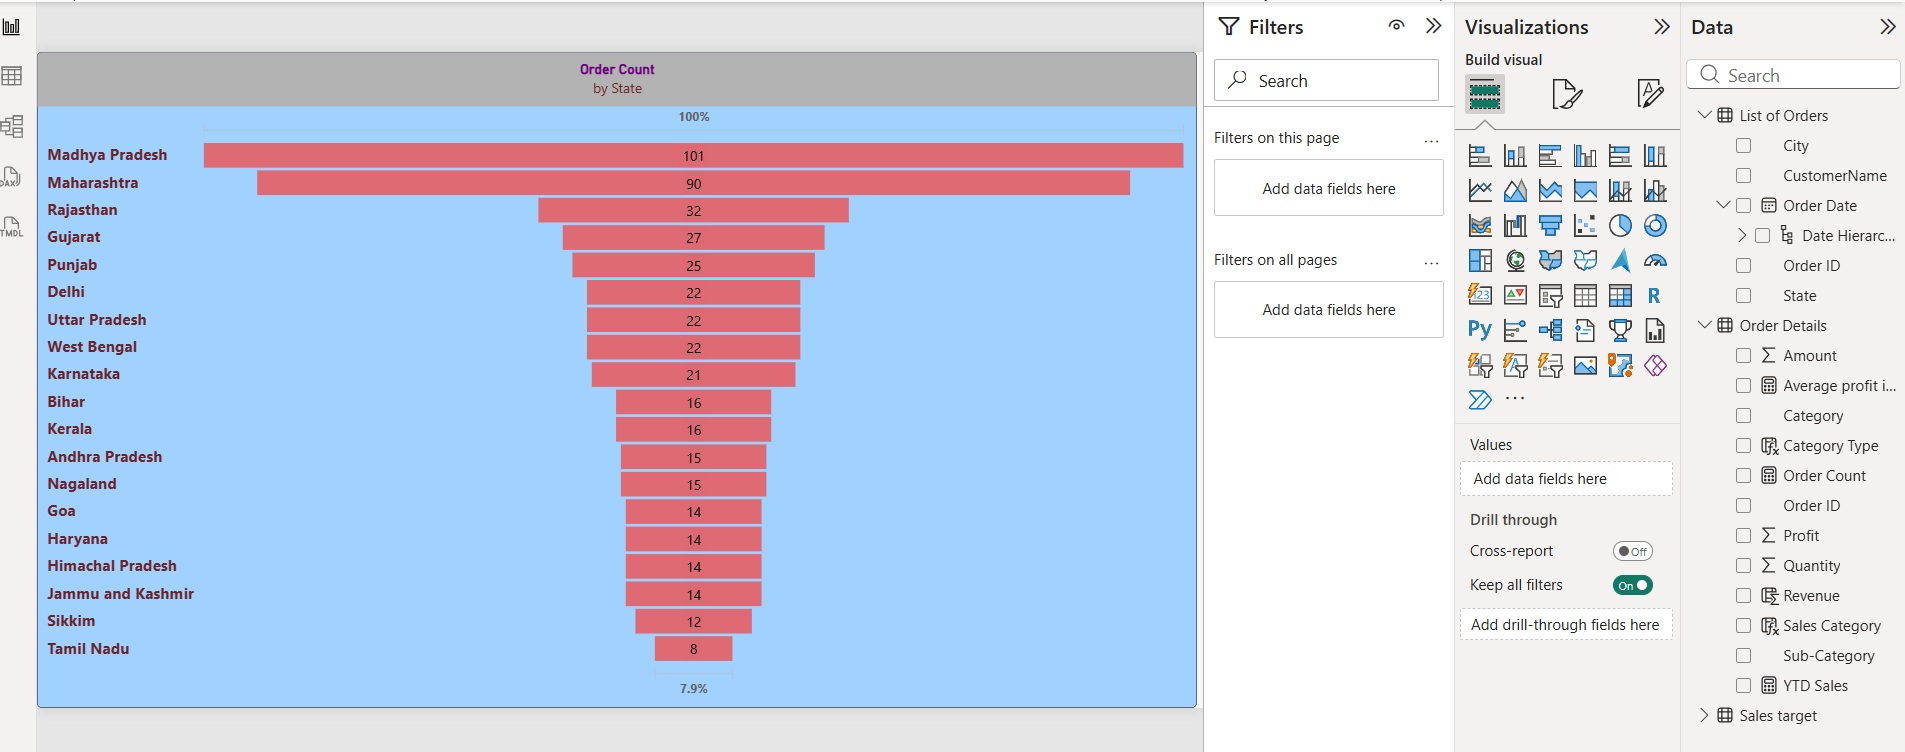

What the dashboard file says about the page in this screenshot:
{"tool":"powerbi","page":{"name":"State","canvas":[1920,1080],"ordinal":5},"visuals":[{"type":"funnel","fields":{"Category":["List of Orders .State"],"Y":["Order Details .Order Count"]},"box":[0,0,1910,1080.1],"z":0}]}

Visuals, with their boxes on the page's 1920x1080 design canvas (x1, y1, x2, y2). These are canvas units, not pixel positions in the 1905x752 screenshot, which may show the page scaled, cropped or inside an application window:
funnel - List of Orders .State x Order Details .Order Count: region(0, 0, 1910, 1080)
